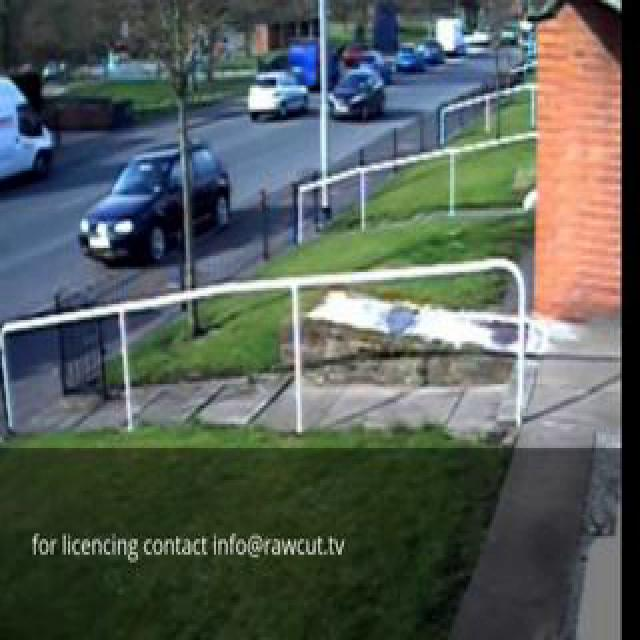road accidents: (74, 0, 389, 282)
